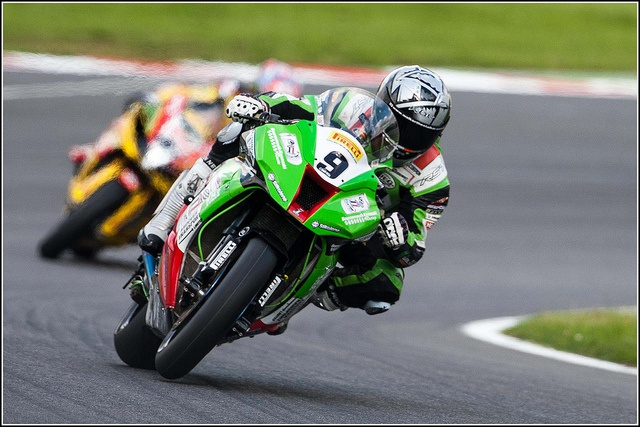non-vehicle: (112, 84, 399, 379), (38, 84, 236, 260)
